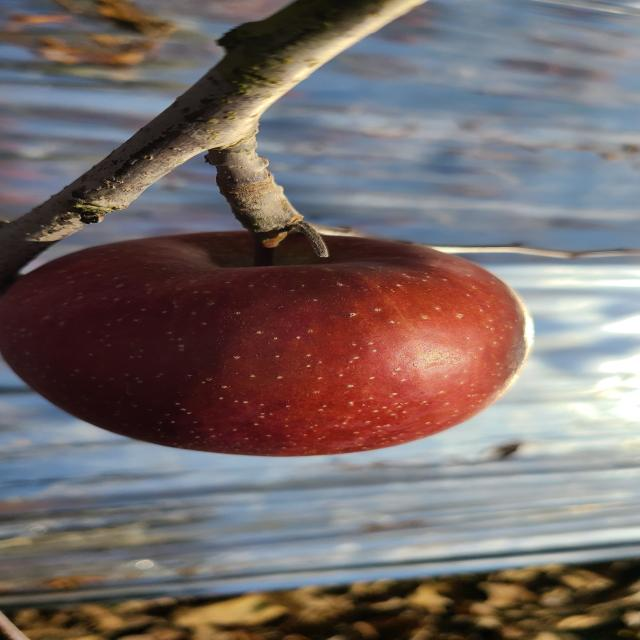fresh: (6, 225, 558, 465)
